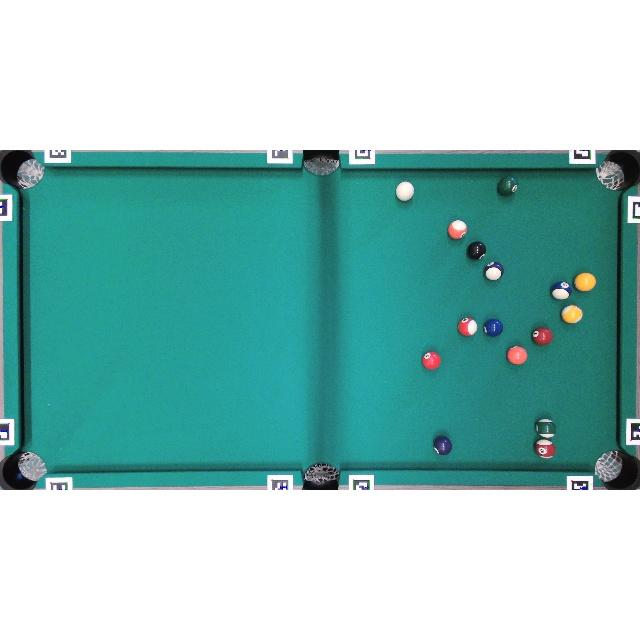cue ball: (396, 182, 414, 201)
other: (574, 272, 596, 292), (534, 438, 556, 458), (498, 175, 518, 196), (535, 418, 556, 438), (550, 281, 572, 300), (562, 305, 582, 324), (483, 318, 503, 337), (484, 262, 504, 281), (507, 346, 527, 365), (532, 327, 553, 345), (467, 241, 486, 260), (458, 317, 477, 336), (448, 220, 467, 239), (433, 436, 452, 455), (422, 351, 440, 370)
